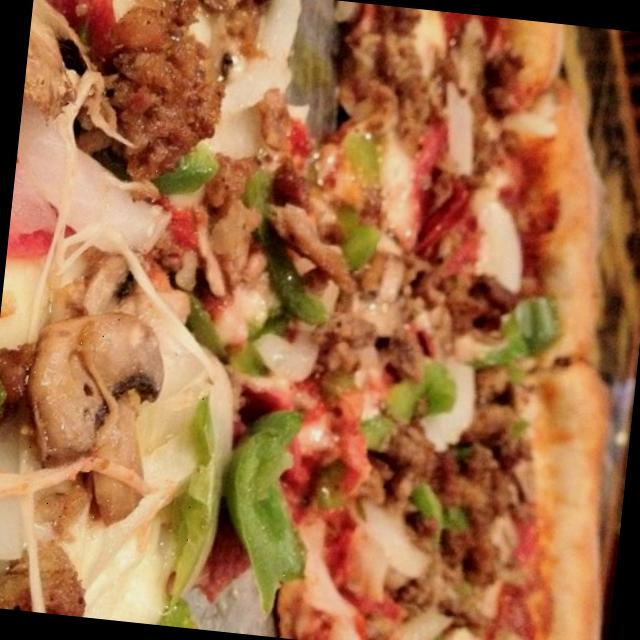Bell Pepper: (210, 423, 312, 611), (228, 164, 342, 332), (358, 348, 462, 462), (90, 128, 218, 196), (175, 300, 276, 378), (472, 286, 562, 372), (162, 474, 219, 606), (322, 193, 380, 272), (406, 481, 468, 544), (179, 396, 220, 469), (0, 366, 7, 459)
mushrooms: (14, 305, 167, 528)
